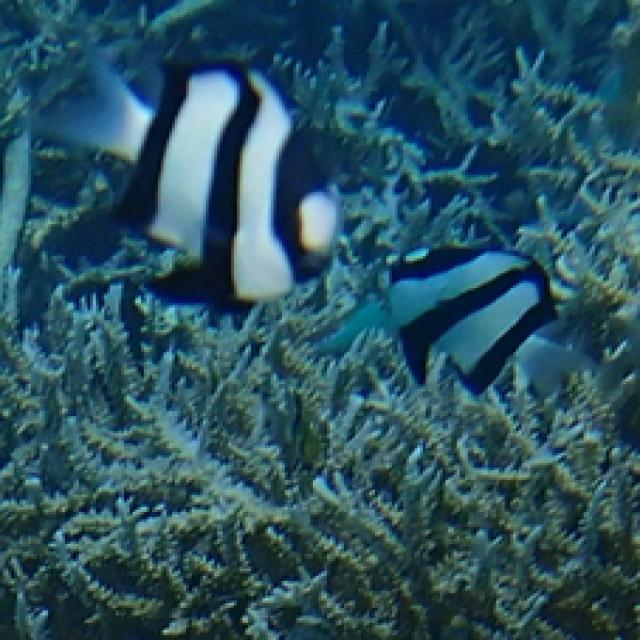ThreeStripedDamselfish: (37, 57, 341, 308), (386, 246, 601, 399)
